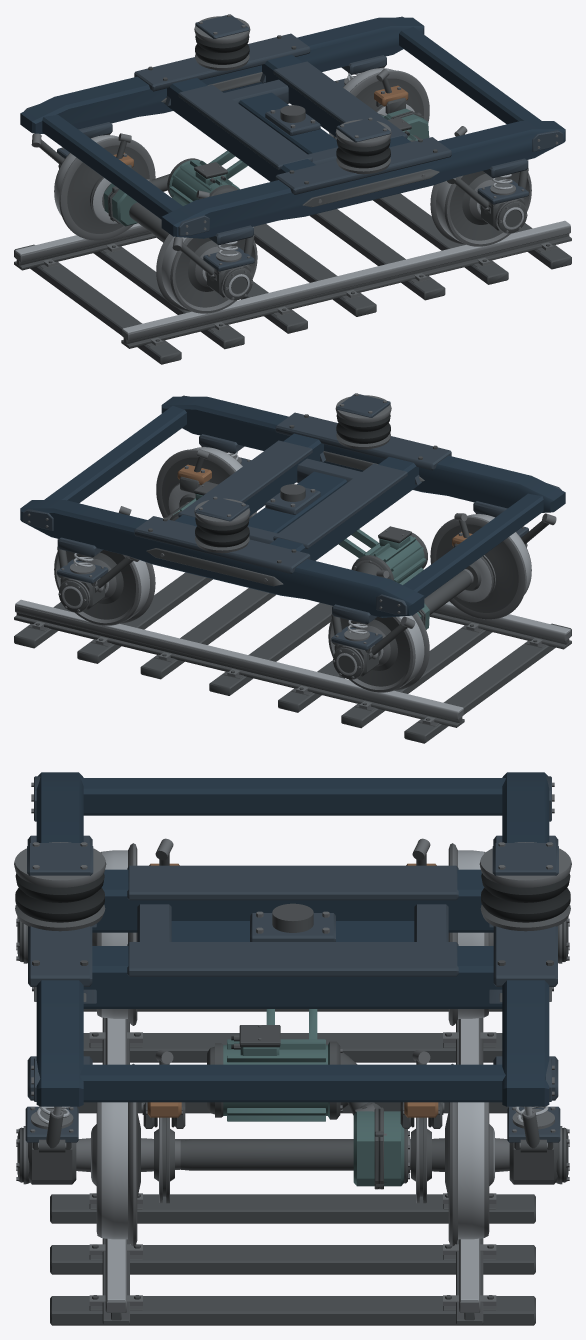
File: bogie.glb
The picture shows the model from 3 angles, top to bottom: view 1: azimuth 30°, elevation 25°; view 2: azimuth 150°, elevation 25°; view 3: azimuth 270°, elevation 25°; orthographic projection. The views are drawn at different scales.
Visible parts, largest first — view 1: reference_track_surface, cross_members_surface, side_beam_l_surface, side_beam_r_surface, wheel_a_r_surface, wheel_a_l_surface, wheel_b_l_surface, air_spring_r_surface, air_spring_l_surface, motor_a_surface, wheel_b_r_surface, axlebox_b_l_surface (+7 smaller); view 2: reference_track_surface, cross_members_surface, side_beam_r_surface, side_beam_l_surface, wheel_a_l_surface, wheel_a_r_surface, wheel_b_r_surface, motor_a_surface, air_spring_l_surface, air_spring_r_surface, wheel_b_l_surface, axlebox_b_r_surface (+6 smaller); view 3: cross_members_surface, reference_track_surface, side_beam_r_surface, side_beam_l_surface, axle_b_surface, air_spring_r_surface, air_spring_l_surface, motor_b_surface, wheel_b_l_surface, wheel_b_r_surface, gearbox_b_surface, axlebox_b_r_surface (+7 smaller).
Part boxes in pixels (bbox=[...]): reference_track_surface: bbox=[14, 193, 571, 364]; cross_members_surface: bbox=[42, 27, 541, 219]; side_beam_l_surface: bbox=[161, 121, 565, 245]; side_beam_r_surface: bbox=[20, 16, 424, 138]; wheel_a_r_surface: bbox=[54, 135, 155, 240]; wheel_a_l_surface: bbox=[156, 234, 257, 313]; wheel_b_l_surface: bbox=[430, 171, 531, 246]; air_spring_r_surface: bbox=[194, 14, 250, 70]; air_spring_l_surface: bbox=[335, 117, 391, 174]; motor_a_surface: bbox=[167, 150, 247, 205]; wheel_b_r_surface: bbox=[329, 68, 429, 139]; axlebox_b_l_surface: bbox=[477, 180, 528, 233]; reference_track_surface: bbox=[14, 572, 571, 743]; cross_members_surface: bbox=[44, 406, 543, 598]; side_beam_r_surface: bbox=[20, 500, 424, 624]; side_beam_l_surface: bbox=[161, 395, 565, 517]; wheel_a_l_surface: bbox=[430, 514, 531, 619]; wheel_a_r_surface: bbox=[328, 613, 429, 692]; wheel_b_r_surface: bbox=[54, 550, 155, 625]; motor_a_surface: bbox=[338, 526, 427, 584]; air_spring_l_surface: bbox=[335, 393, 391, 449]; air_spring_r_surface: bbox=[194, 496, 250, 553]; wheel_b_l_surface: bbox=[156, 447, 256, 518]; axlebox_b_r_surface: bbox=[57, 559, 108, 612]; cross_members_surface: bbox=[80, 778, 505, 1102]; reference_track_surface: bbox=[50, 1009, 535, 1325]; side_beam_r_surface: bbox=[493, 772, 558, 1106]; side_beam_l_surface: bbox=[27, 772, 92, 1106]; axle_b_surface: bbox=[76, 1138, 509, 1172]; air_spring_r_surface: bbox=[479, 842, 571, 931]; air_spring_l_surface: bbox=[14, 842, 106, 931]; motor_b_surface: bbox=[207, 1009, 357, 1121]; wheel_b_l_surface: bbox=[91, 1063, 140, 1246]; wheel_b_r_surface: bbox=[445, 1063, 494, 1246]; gearbox_b_surface: bbox=[353, 1102, 410, 1189]; axlebox_b_r_surface: bbox=[507, 1106, 569, 1184].
Bounding box in the file's own units: 4.2 × 1.68 × 2.78.
